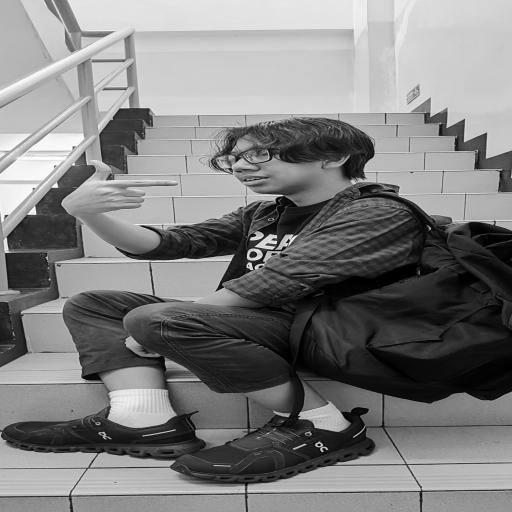next: (41, 156, 196, 221)
